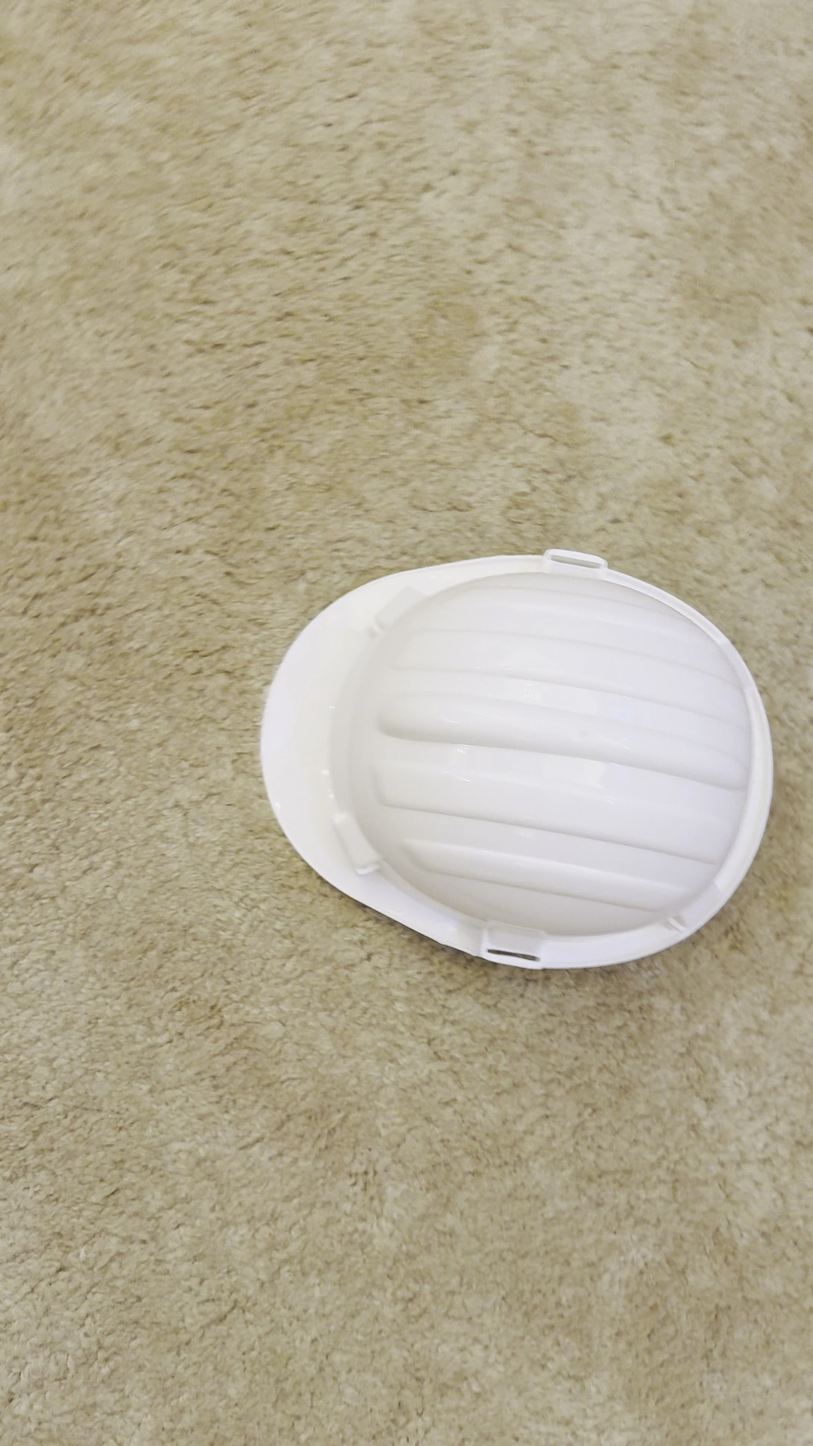safety_helmet: (257, 545, 776, 973)
